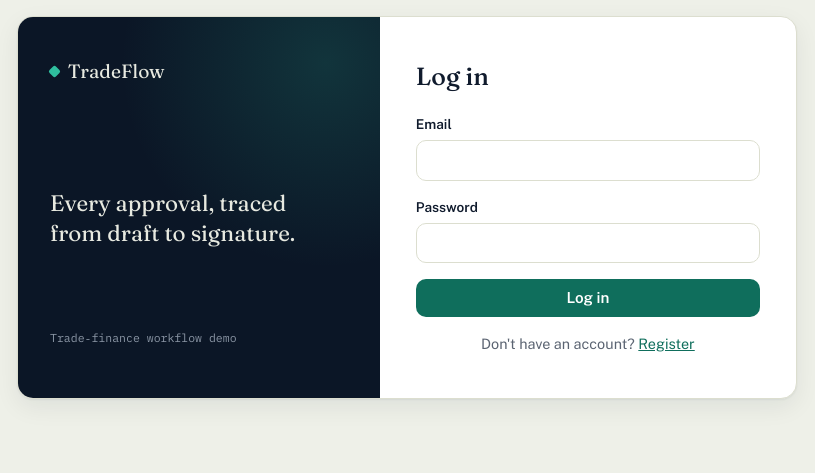
Test: <Login /> › shows validation errors when submitting an empty form
Step 1. Click the button "Log in" → (588,298), box [416,279,760,316]
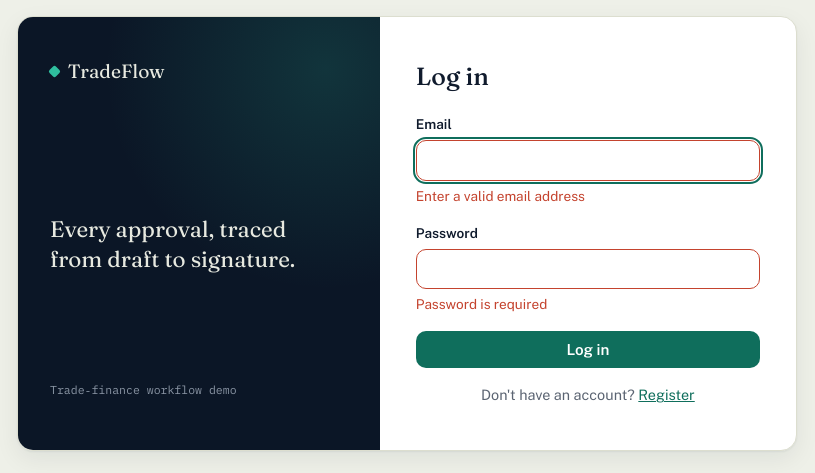
Check: the text "Enter a valid email address" is shown, box [416,188,585,204]
Check: the text "Password is required" is shown, box [416,296,547,312]
